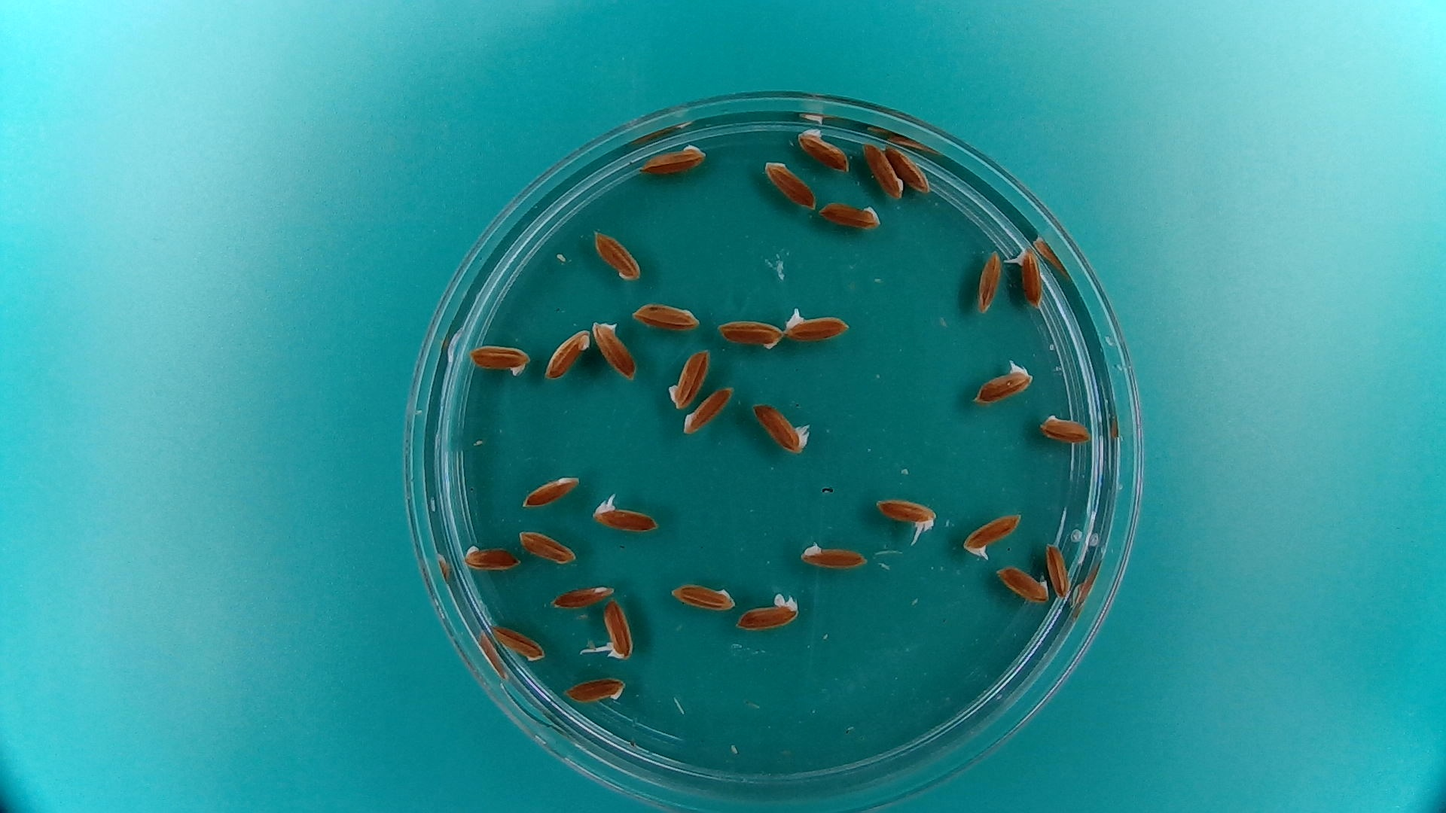no: (761, 155, 819, 214), (664, 344, 712, 411), (590, 316, 638, 382), (749, 400, 808, 453), (590, 226, 643, 284), (794, 122, 853, 174), (682, 382, 737, 437), (542, 324, 593, 381), (858, 138, 905, 199), (518, 471, 584, 514), (637, 138, 709, 177), (516, 526, 581, 568), (490, 620, 549, 665), (734, 593, 800, 633), (628, 298, 703, 333), (465, 340, 534, 378), (666, 577, 738, 613), (993, 562, 1052, 605), (886, 142, 934, 194), (816, 197, 884, 233), (1035, 406, 1097, 445), (547, 578, 618, 612), (715, 318, 786, 351), (796, 540, 865, 571), (459, 540, 522, 573), (1043, 539, 1074, 602), (561, 677, 630, 705), (977, 246, 1002, 316)
yes: (959, 507, 1023, 556), (598, 592, 636, 659), (872, 495, 938, 532), (588, 502, 657, 535), (975, 364, 1033, 402), (782, 311, 849, 343), (1018, 244, 1042, 308)
